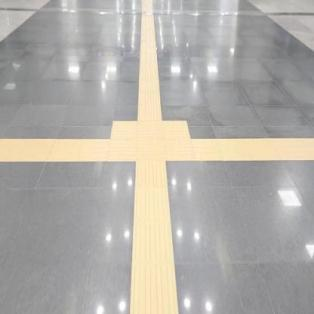Podoctatil: (90, 103, 204, 186), (130, 161, 180, 313), (0, 135, 105, 164), (136, 0, 161, 120), (195, 136, 313, 161)
